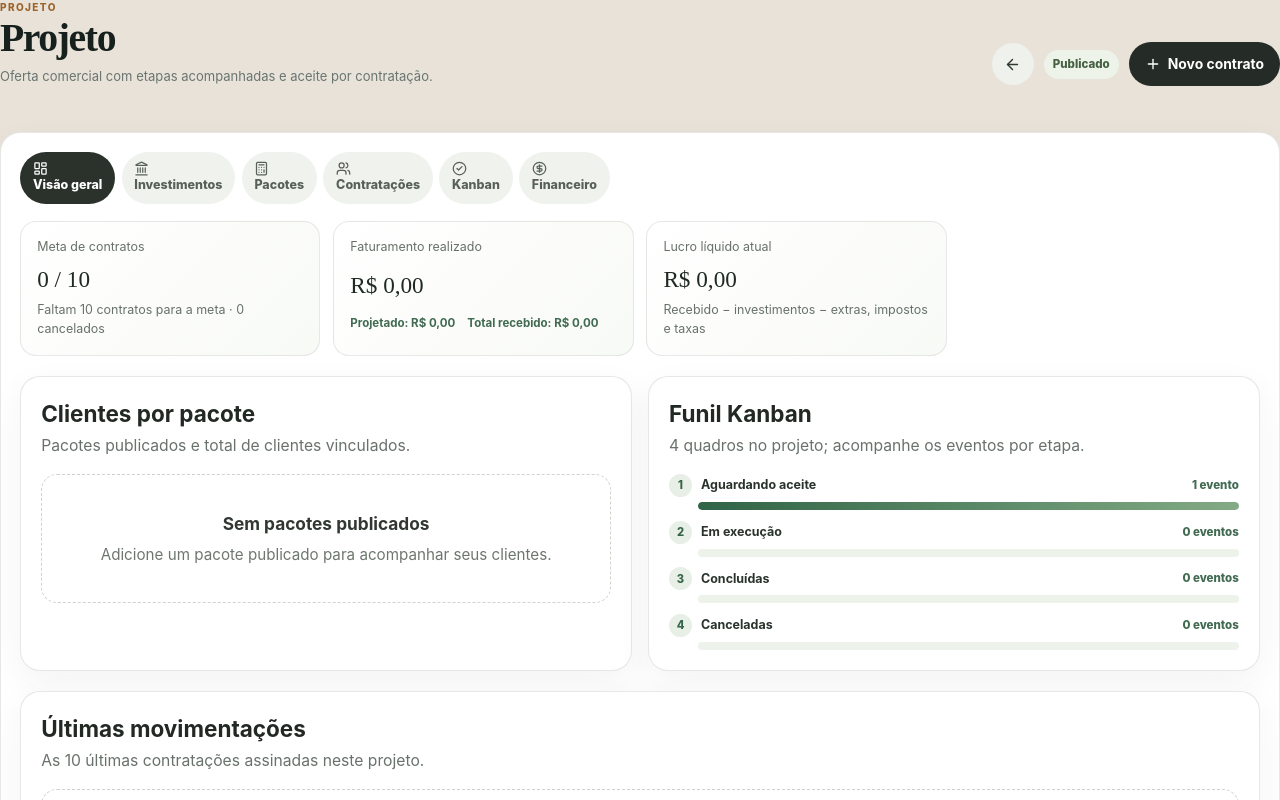
Test case: kanban board editing › shows a warning for boards without a sector
Click the button "Kanban".
click(476, 178)  # box [439,152,513,204]
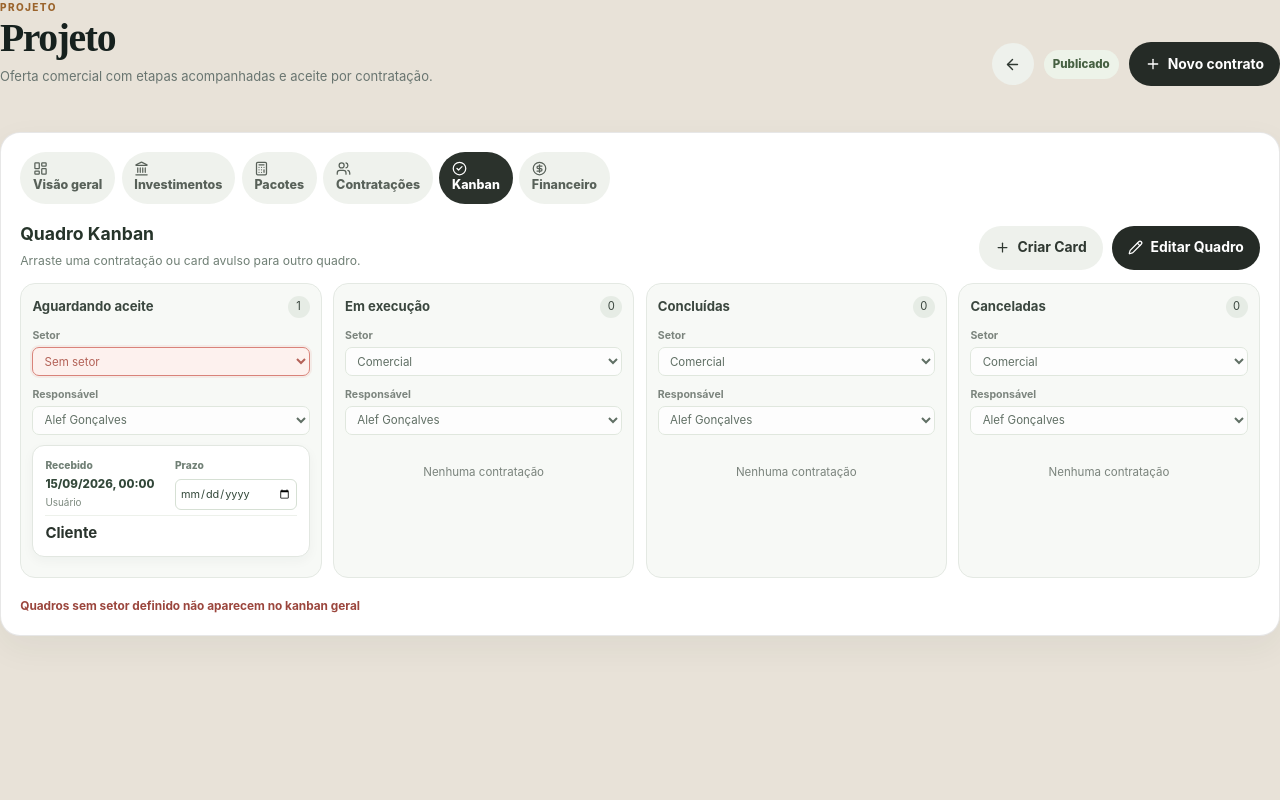
Expected: the dropdown named "Setor do quadro Aguardando aceite" shows "Sem setor", [32,347,310,376]
Expected: the text "Quadros sem setor definido não aparecem no kanban geral" is shown, [20,599,360,613]
